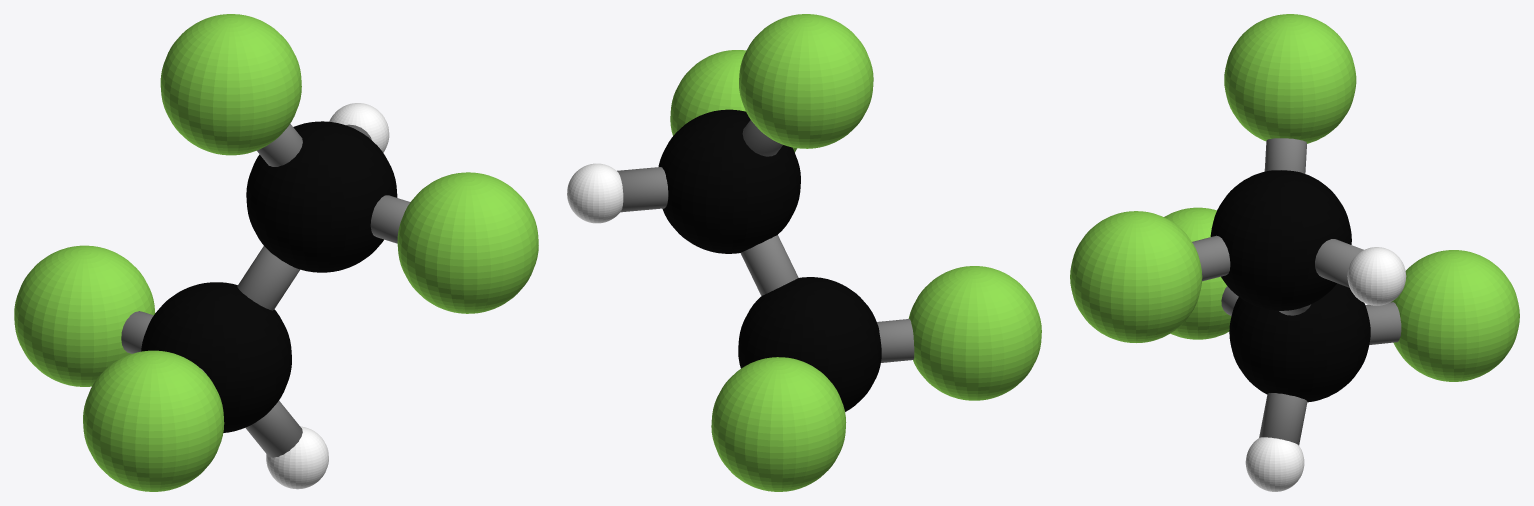
File: POLITETRAFLUORETILENO.obj
3 renders of one model, left to right at view 1: azimuth 30°, elevation 25°; view 2: azimuth 150°, elevation 25°; view 3: azimuth 270°, elevation 25°, orthographic. The views are drawn at different scales.
Parts seen in each view (by area): view 1: Fluorine_ball_Sphere, Carbon_ball_Sphere.002, Hydrogen_ball_Sphere.001, Stick_Cylinder.005_Cylinder.005, Stick_Cylinder.002_Cylinder.002, Stick_Cylinder_Cylinder, Stick_Cylinder.004_Cylinder.004, Stick_Cylinder.001_Cylinder.001; view 2: Fluorine_ball_Sphere, Carbon_ball_Sphere.002, Hydrogen_ball_Sphere.001, Stick_Cylinder.005_Cylinder.005, Stick_Cylinder.003_Cylinder.003, Stick_Cylinder.006_Cylinder.006, Stick_Cylinder.004_Cylinder.004; view 3: Fluorine_ball_Sphere, Carbon_ball_Sphere.002, Hydrogen_ball_Sphere.001, Stick_Cylinder.002_Cylinder.002, Stick_Cylinder.003_Cylinder.003, Stick_Cylinder.004_Cylinder.004, Stick_Cylinder.001_Cylinder.001, Stick_Cylinder_Cylinder.
Boxes of the visible parts, x1,y1,x2,y2 form: Fluorine_ball_Sphere: (14, 14, 538, 491); Carbon_ball_Sphere.002: (141, 121, 397, 432); Hydrogen_ball_Sphere.001: (266, 103, 389, 489); Stick_Cylinder.005_Cylinder.005: (237, 246, 299, 310); Stick_Cylinder.002_Cylinder.002: (245, 400, 302, 457); Stick_Cylinder_Cylinder: (370, 195, 410, 243); Stick_Cylinder.004_Cylinder.004: (257, 123, 302, 166); Stick_Cylinder.001_Cylinder.001: (121, 311, 153, 353); Fluorine_ball_Sphere: (670, 14, 1041, 491); Carbon_ball_Sphere.002: (658, 109, 881, 411); Hydrogen_ball_Sphere.001: (567, 163, 623, 223); Stick_Cylinder.005_Cylinder.005: (740, 235, 798, 295); Stick_Cylinder.003_Cylinder.003: (617, 167, 668, 212); Stick_Cylinder.006_Cylinder.006: (877, 319, 914, 362); Stick_Cylinder.004_Cylinder.004: (742, 120, 782, 156); Fluorine_ball_Sphere: (1070, 14, 1519, 381); Carbon_ball_Sphere.002: (1210, 170, 1370, 402); Hydrogen_ball_Sphere.001: (1245, 247, 1406, 491); Stick_Cylinder.002_Cylinder.002: (1259, 393, 1307, 445); Stick_Cylinder.003_Cylinder.003: (1315, 239, 1363, 287); Stick_Cylinder.004_Cylinder.004: (1264, 138, 1306, 173); Stick_Cylinder.001_Cylinder.001: (1365, 302, 1401, 344); Stick_Cylinder_Cylinder: (1192, 235, 1230, 281).
Bounding box in the file's own units: 4.27 × 4.79 × 4.41.
